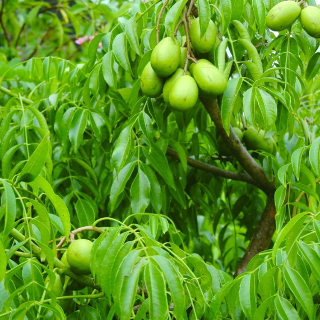coc: (192, 60, 226, 96), (151, 37, 179, 77), (170, 76, 197, 109)
